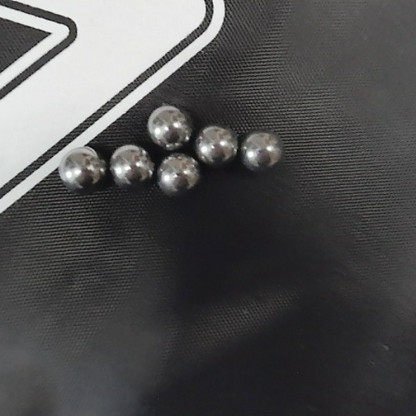ironball: (148, 105, 189, 148), (60, 146, 102, 187), (156, 154, 197, 194), (194, 125, 236, 164), (243, 131, 281, 173), (112, 144, 152, 183)
